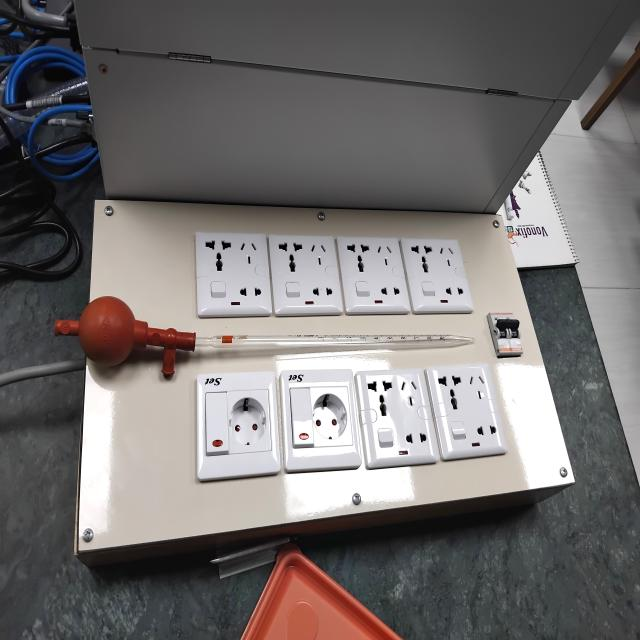Volumetric_Pipet: (43, 277, 484, 387)
